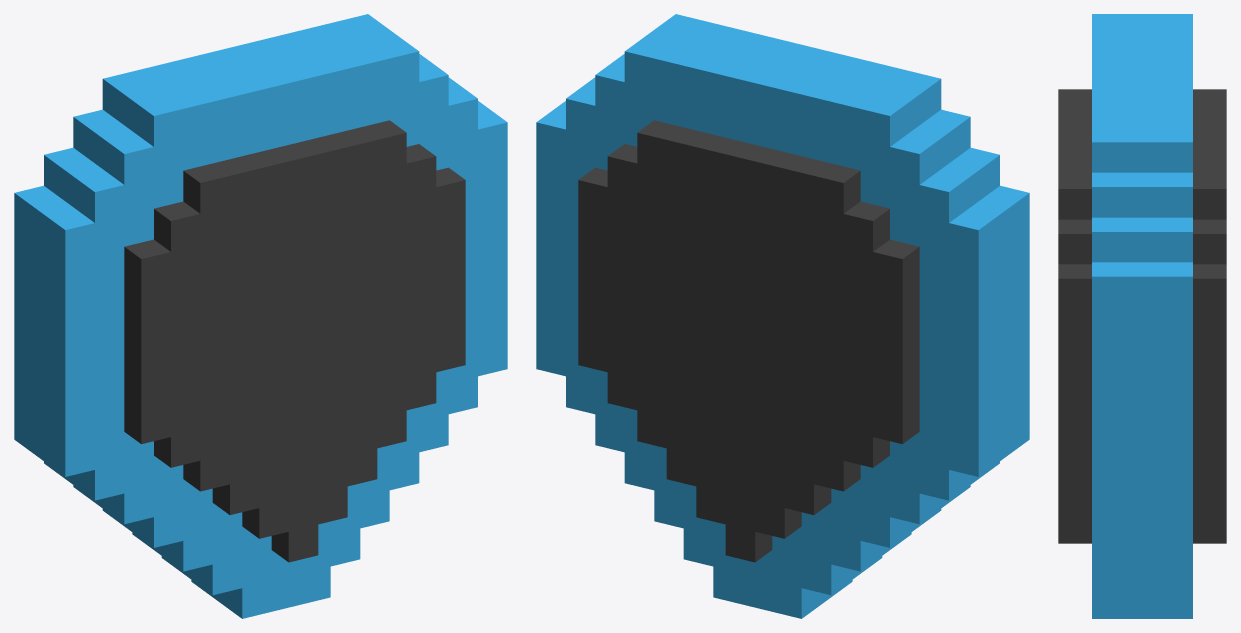
Rendered from Shield_Item.fbx.
The picture shows the model from 3 angles, left to right: view 1: azimuth 30°, elevation 25°; view 2: azimuth 150°, elevation 25°; view 3: azimuth 270°, elevation 25°; orthographic projection.
Parts seen in each view (by area): view 1: Shield_Item; view 2: Shield_Item; view 3: Shield_Item.
Part boxes in pixels (x1,y1,x2,y2): Shield_Item: (14, 14, 507, 618); Shield_Item: (536, 14, 1029, 618); Shield_Item: (1058, 14, 1226, 618).
Bounding box in the file's own units: 15 × 17 × 5.
Materials: 1 (1 with a texture image).
